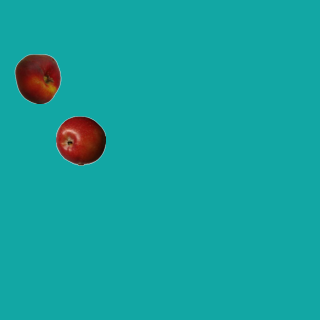Apple Braeburn: (55, 115, 105, 165)
Nectarine Flat: (12, 53, 62, 103)
